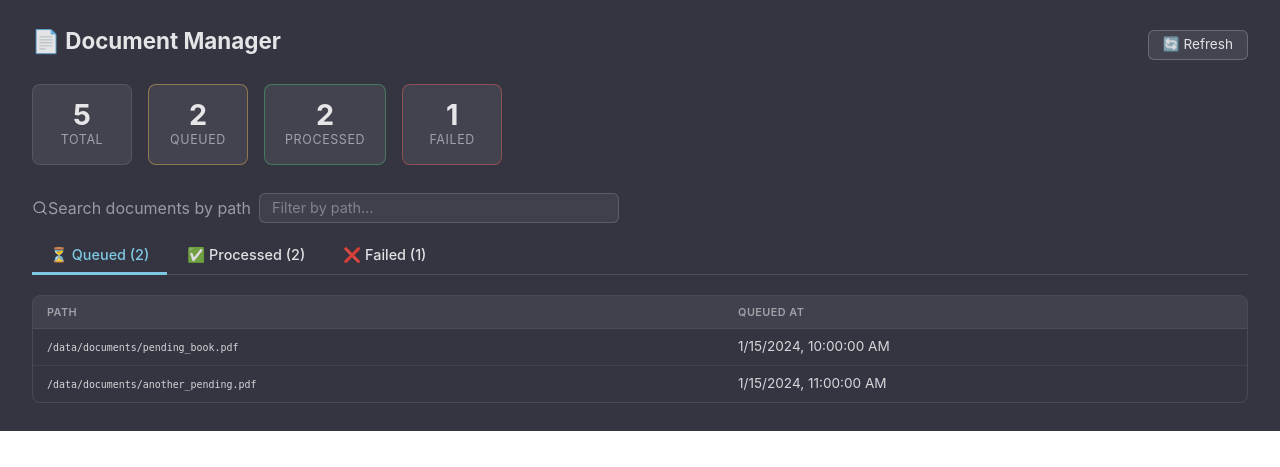
Test: AdminDocumentsPage › switches to failed tab and shows requeue and delete buttons
Click the tab "❌ Failed (1)" at (385, 257), box [325,239,444,275]
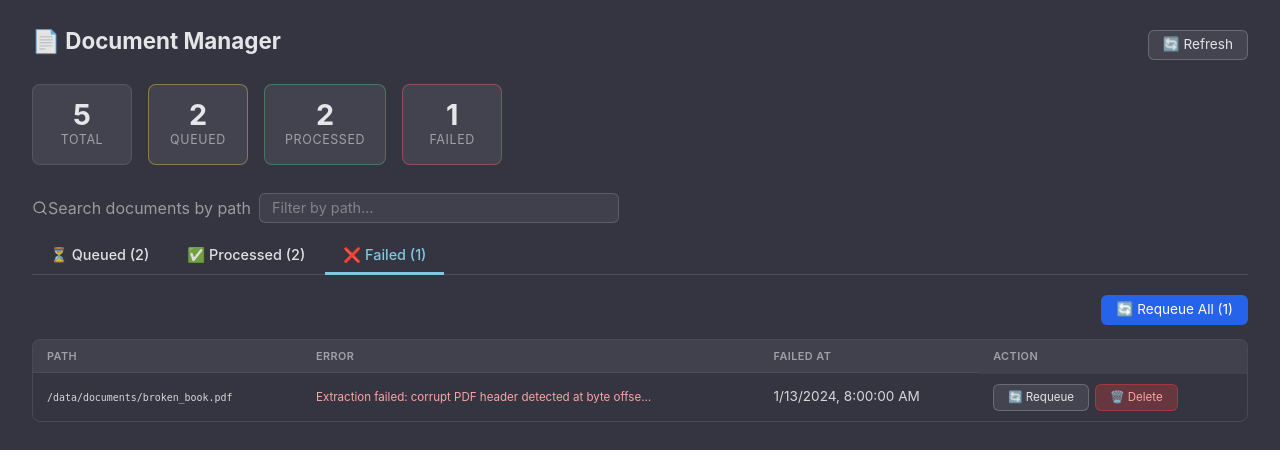
Check: the text "/data/documents/broken_book.pdf" is shown, box [47,392,232,403]
Check: the button "🔄 Requeue" is shown, box [993,384,1089,411]
Check: the button "🗑️ Delete" is shown, box [1095,384,1178,411]
